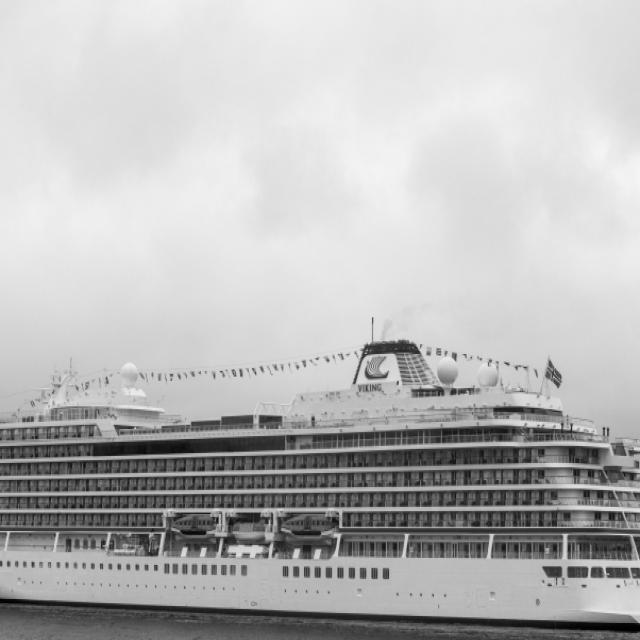cruises: (1, 337, 640, 640)
